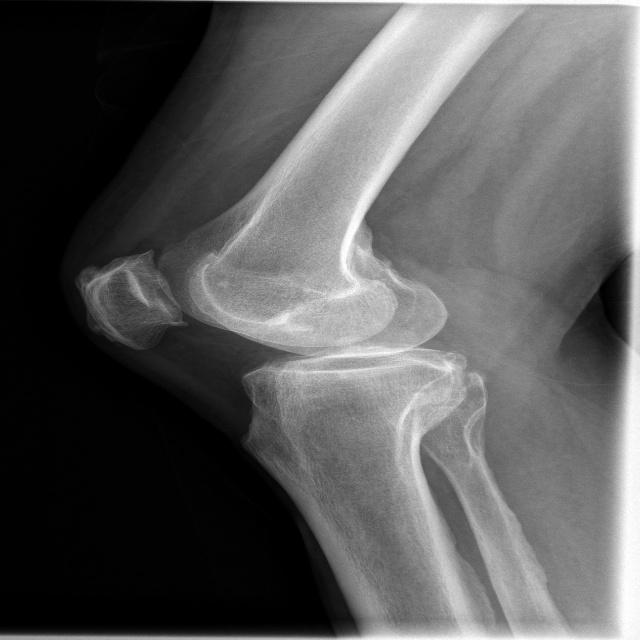Knee: (77, 236, 470, 432)
